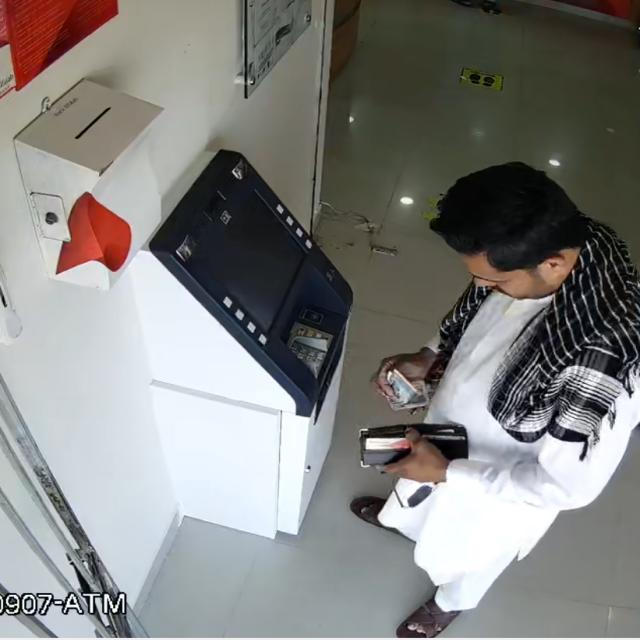note: (377, 371, 437, 409)
